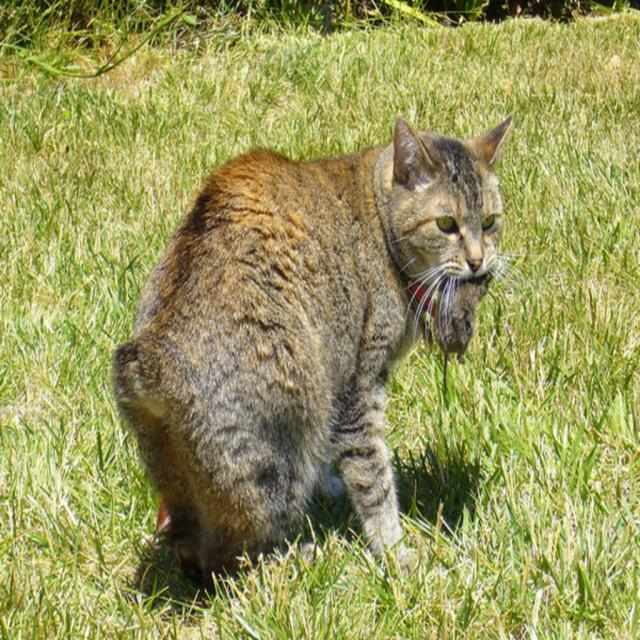Cat: (111, 107, 515, 586)
